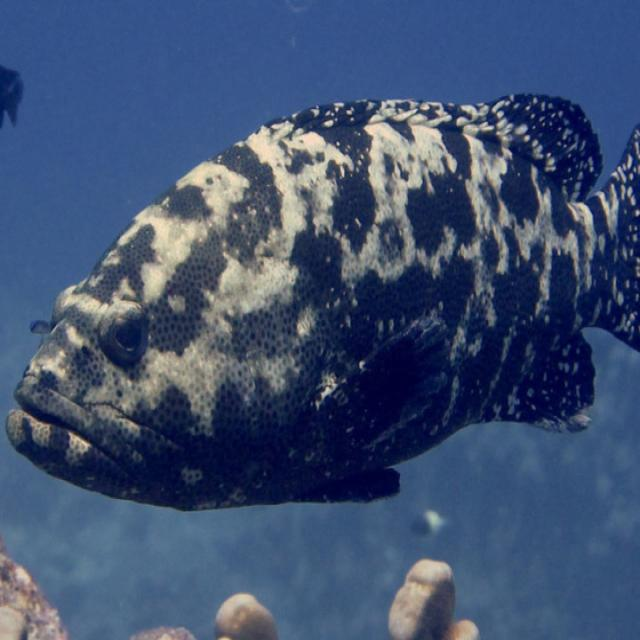grouper: (12, 92, 640, 518)
